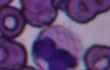N: (32, 25, 83, 70)
